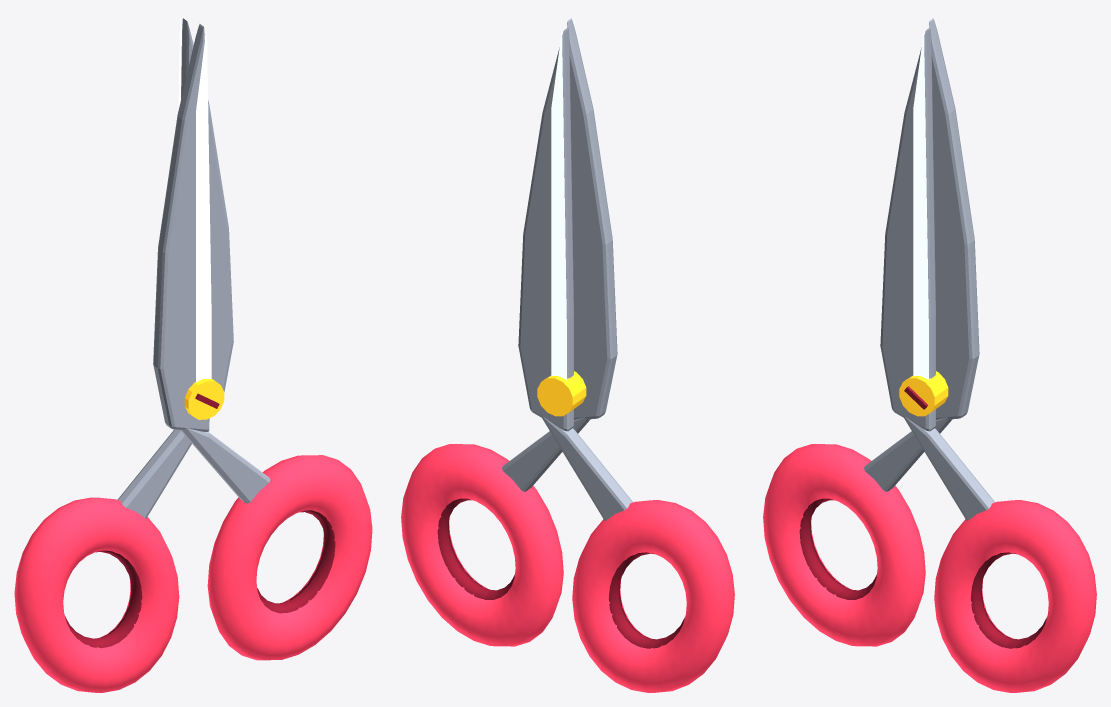
Rendered from scissors.glb.
The picture shows the model from 3 angles, left to right: view 1: azimuth 30°, elevation 25°; view 2: azimuth 150°, elevation 25°; view 3: azimuth 330°, elevation 25°; orthographic projection.
Visible parts, largest first — view 1: armA, armB, pin; view 2: armB, armA, pin; view 3: armA, armB, pin.
Part boxes in pixels (bbox=[...]): armA: bbox=[153, 24, 372, 660]; armB: bbox=[14, 14, 233, 692]; pin: bbox=[184, 379, 224, 419]; armB: bbox=[518, 27, 734, 692]; armA: bbox=[401, 16, 617, 646]; pin: bbox=[537, 371, 586, 416]; armA: bbox=[880, 27, 1096, 692]; armB: bbox=[763, 16, 979, 646]; pin: bbox=[899, 371, 948, 416].
Bounding box in the file's own units: 0.5601 × 1.02 × 0.0927.
